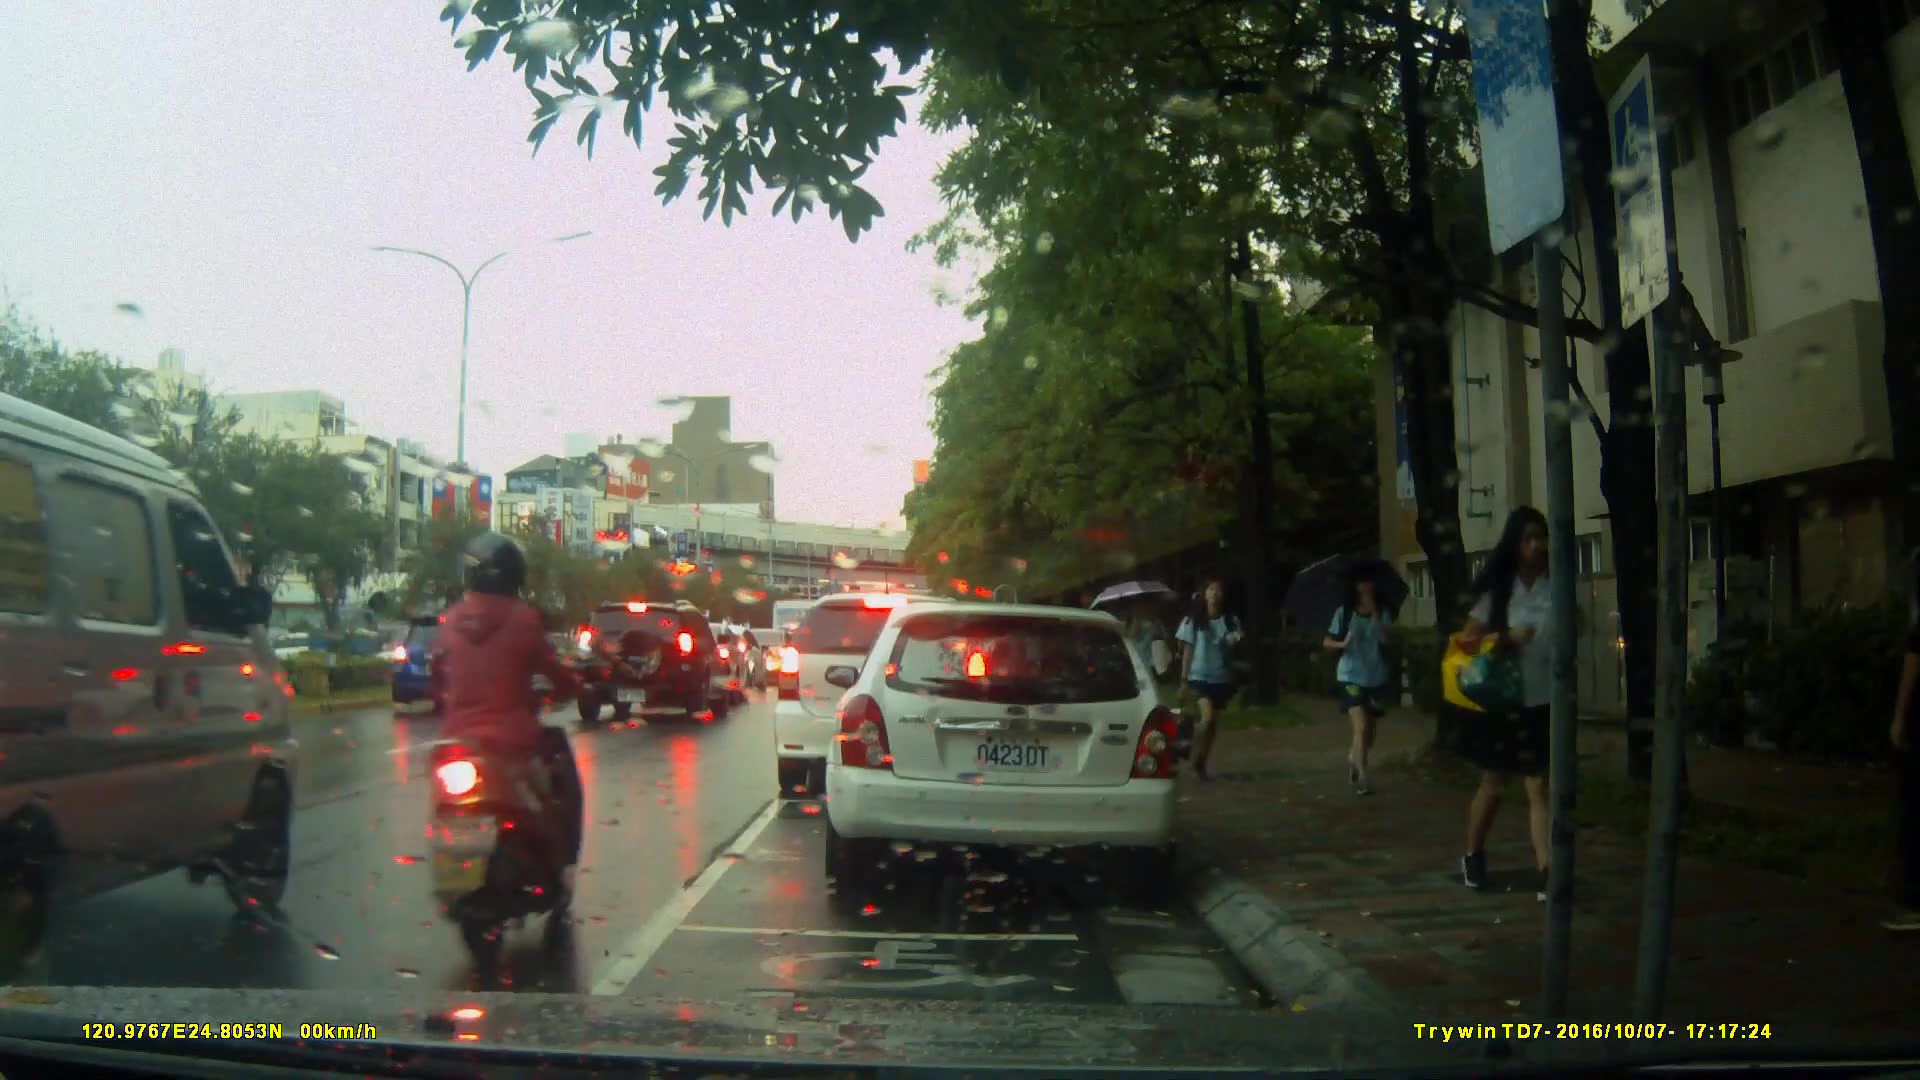pedestrian: (1474, 492, 1594, 896), (1319, 556, 1398, 799), (1173, 564, 1253, 767), (1885, 482, 1915, 930)
rider: (412, 525, 584, 957)
vehicle: (1, 389, 309, 976), (815, 593, 1204, 909), (771, 590, 994, 802), (570, 601, 734, 725), (391, 615, 541, 714)
